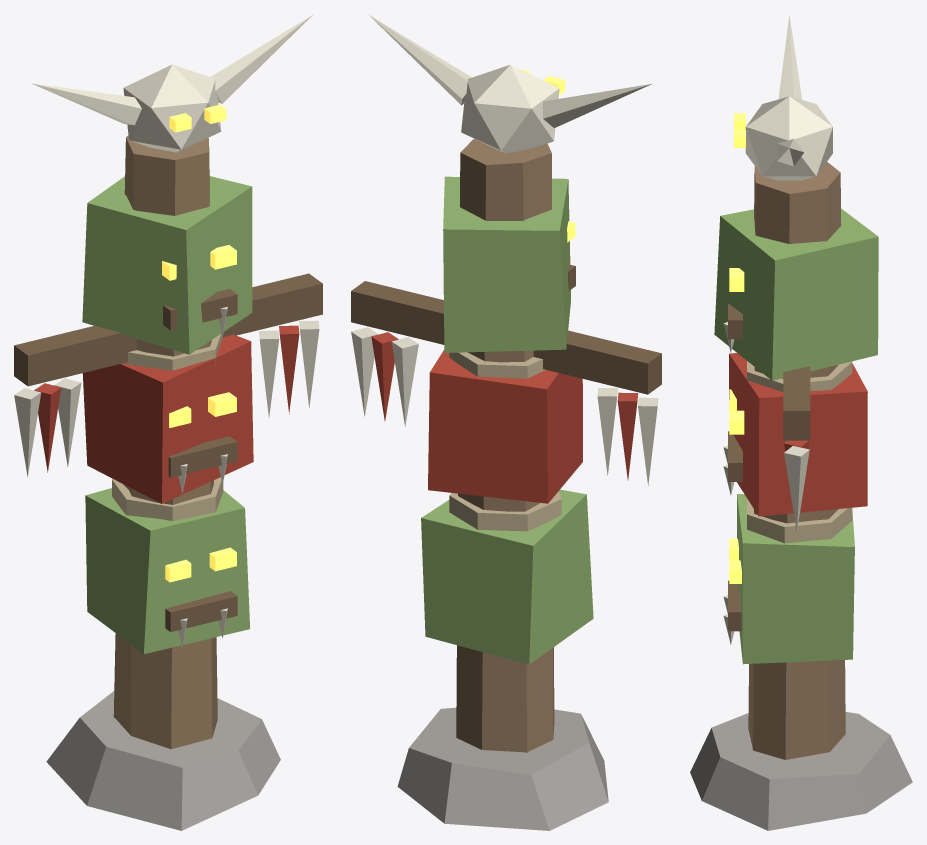
Rendered from orc_totem.glb.
3 views of the same model, side by side, from view 1: azimuth 30°, elevation 25°; view 2: azimuth 150°, elevation 25°; view 3: azimuth 270°, elevation 25° (orthographic). The views are drawn at different scales.
Parts seen in each view (by area): view 1: orc_totem; view 2: orc_totem; view 3: orc_totem.
Boxes of the visible parts, x1=… form: orc_totem: x1=14, y1=14, x2=322, y2=830; orc_totem: x1=351, y1=14, x2=661, y2=830; orc_totem: x1=690, y1=15, x2=912, y2=830.
Size of the model in its own units: 2.27 by 5.24 by 1.49.
